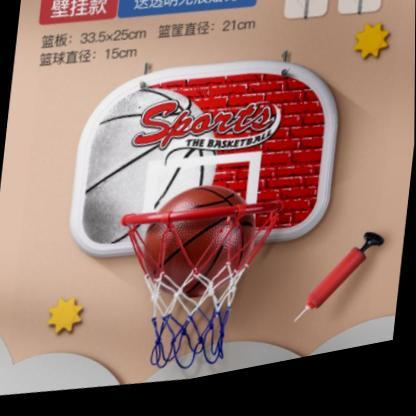basketball: (136, 180, 261, 318)
rim: (106, 196, 283, 395)
